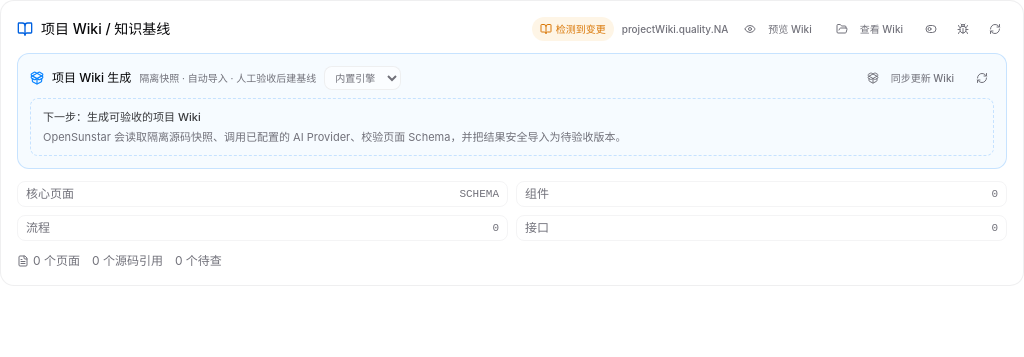
ProjectWikiPanel 内置生成闭环 › 同步更新使用同步专属确认语义
The width and height of the screenshot is (1024, 357).
Click the button "同步更新 Wiki".
click(910, 78)  # box x1=859 y1=66 x2=962 y2=90
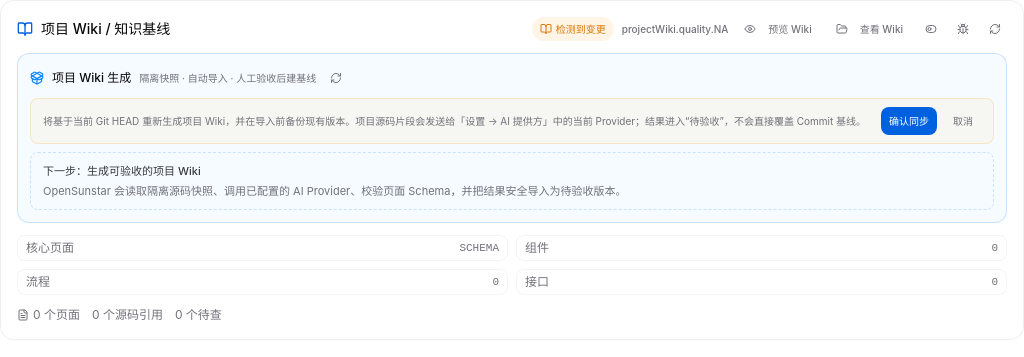
Result: the text "基于当前 Git HEAD 重新生成" is shown at x1=43 y1=115 x2=866 y2=127
Result: the button "确认同步" is shown at x1=881 y1=107 x2=937 y2=135
